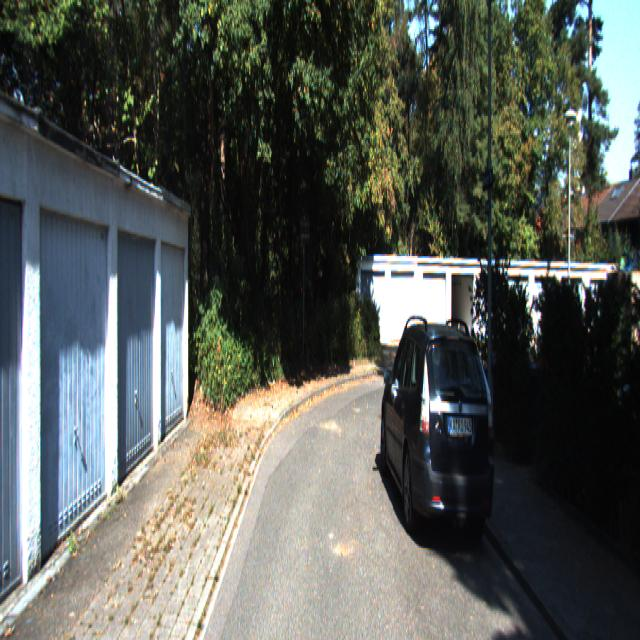Car: (378, 318, 499, 554)
